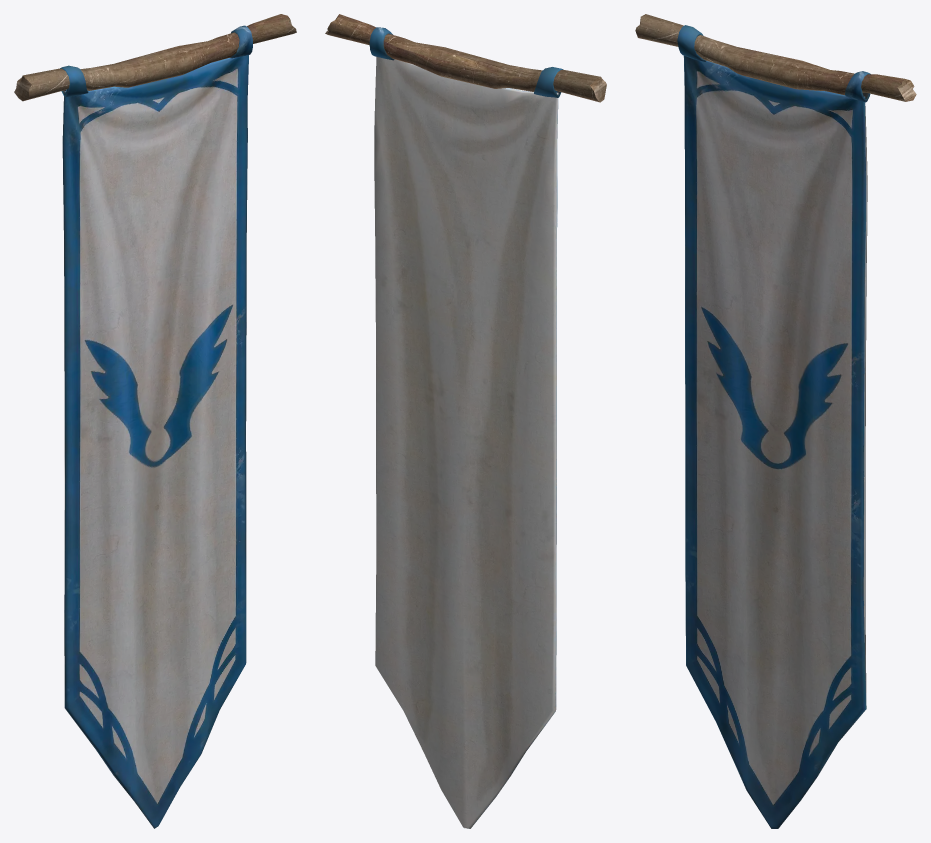
The picture shows the model from 3 angles, left to right: view 1: azimuth 30°, elevation 25°; view 2: azimuth 150°, elevation 25°; view 3: azimuth 330°, elevation 25°; orthographic projection.
Parts seen in each view (by area): view 1: SM_Wall_Vertical_Banner_Armadyl_01v2_LOD0; view 2: SM_Wall_Vertical_Banner_Armadyl_01v2_LOD0; view 3: SM_Wall_Vertical_Banner_Armadyl_01v2_LOD0.
Part boxes in pixels (bbox=[...]): SM_Wall_Vertical_Banner_Armadyl_01v2_LOD0: bbox=[14, 14, 296, 828]; SM_Wall_Vertical_Banner_Armadyl_01v2_LOD0: bbox=[325, 14, 606, 828]; SM_Wall_Vertical_Banner_Armadyl_01v2_LOD0: bbox=[635, 14, 916, 828].
Bounding box in the file's own units: 1.23 × 3.35 × 0.1216.
Materials: 2 (2 with a texture image).
